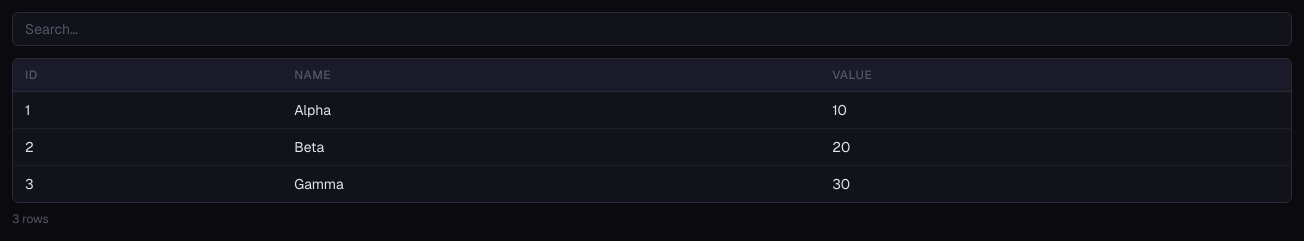
DataTable › filters rows via global search
In the field with placeholder "Search…": (652, 29) [12,12,1292,46], type "Beta"
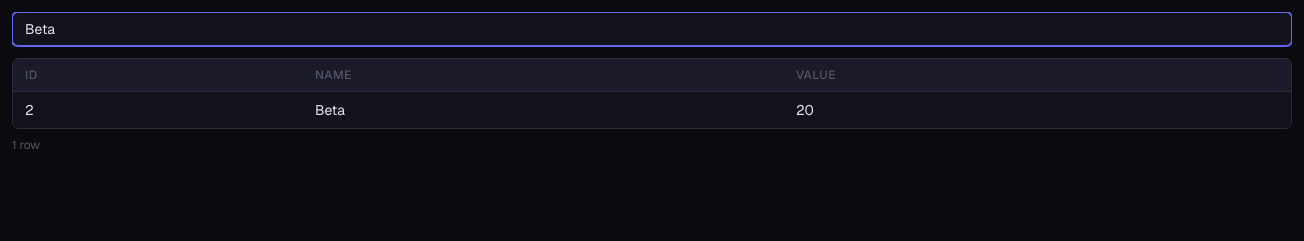
Expected: the text "Beta" is shown, [303,92,784,128]
Expected: the text "Alpha" is gone
Expected: the text "Gamma" is gone
